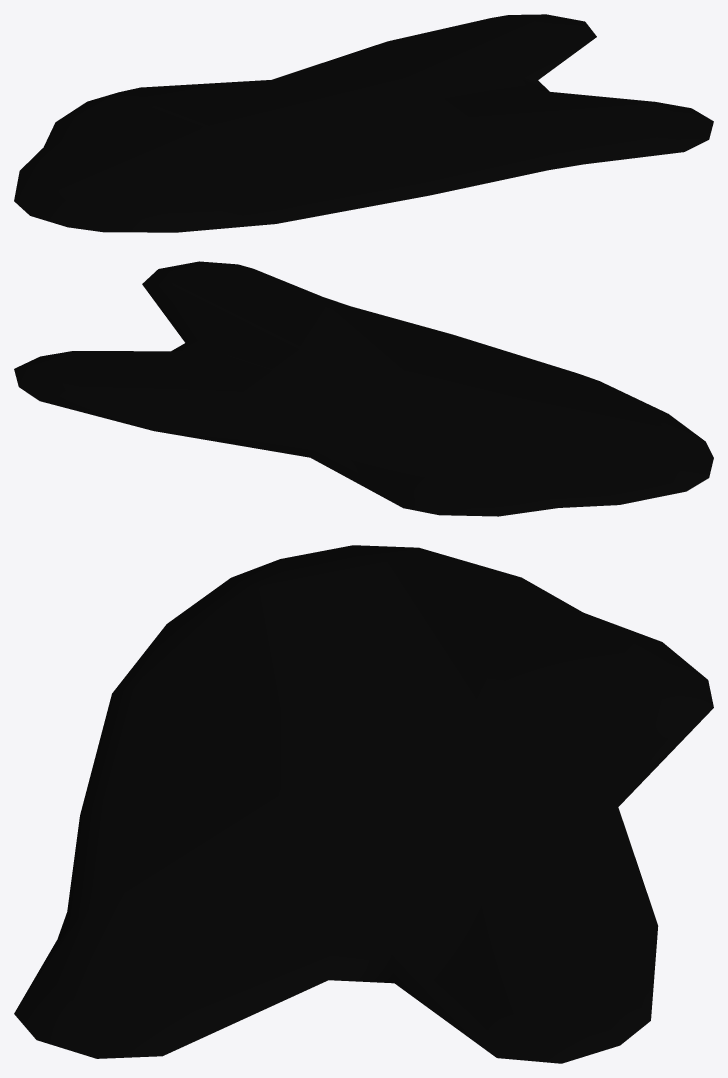
Rendered from oilstainboostpad.fbx.
3 renders of one model, top to bottom at view 1: azimuth 30°, elevation 25°; view 2: azimuth 150°, elevation 25°; view 3: azimuth 270°, elevation 25°, orthographic. The views are drawn at different scales.
Parts seen in each view (by area): view 1: OilStain_boostpad; view 2: OilStain_boostpad; view 3: OilStain_boostpad.
Part boxes in pixels (box(x1,y1,x2,y2)): OilStain_boostpad: box(14, 14, 713, 232); OilStain_boostpad: box(14, 261, 713, 516); OilStain_boostpad: box(14, 545, 713, 1063).
Bounding box in the file's own units: 0.0155 × 0.000229 × 0.00887.
Materials: 1 (1 with a texture image).
